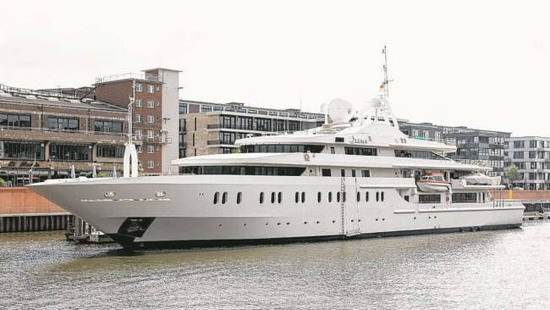yacht: (34, 77, 525, 252)
